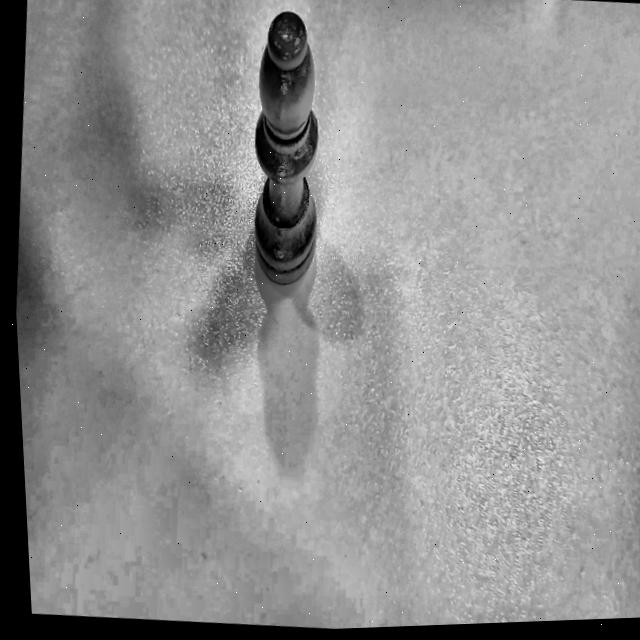black-bishop: (223, 0, 354, 306)
